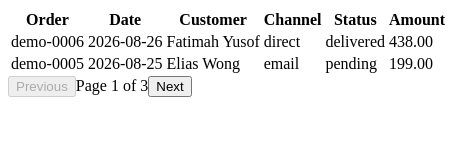
Test: shows page size rows and paginates
The width and height of the screenshot is (467, 160).
Expected: the text "demo-0006" is shown 2 times, [10, 32, 85, 52]; [10, 54, 85, 74]
Click the button "Next": (170, 86) [148, 76, 192, 97]
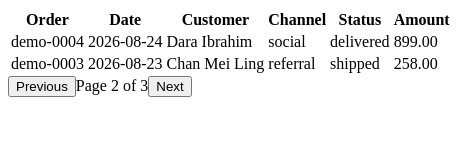
Click the button "Next": (170, 86) [148, 76, 192, 97]
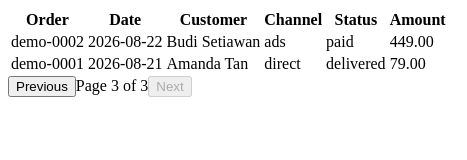
Expected: the button "Next" is disabled, [148, 76, 192, 97]
Click the button "Previous": (42, 86) [8, 76, 76, 97]
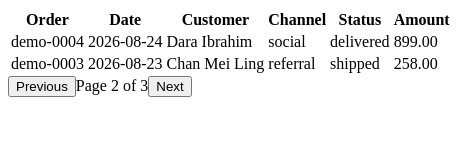
Click the button "Previous": (42, 86) [8, 76, 76, 97]
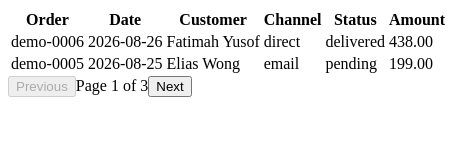
Expected: the button "Previous" is disabled, [8, 76, 76, 97]
